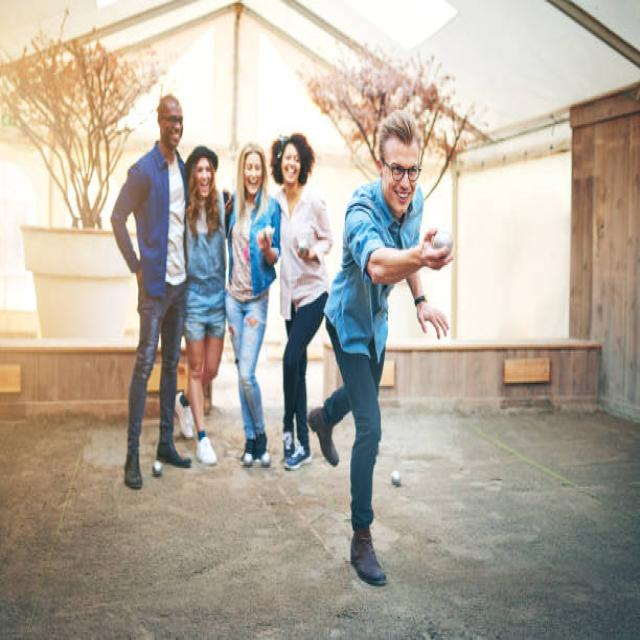petanque: (430, 232, 455, 253), (388, 470, 405, 489), (149, 461, 165, 480), (296, 241, 309, 254), (260, 452, 271, 467), (243, 454, 251, 468)
